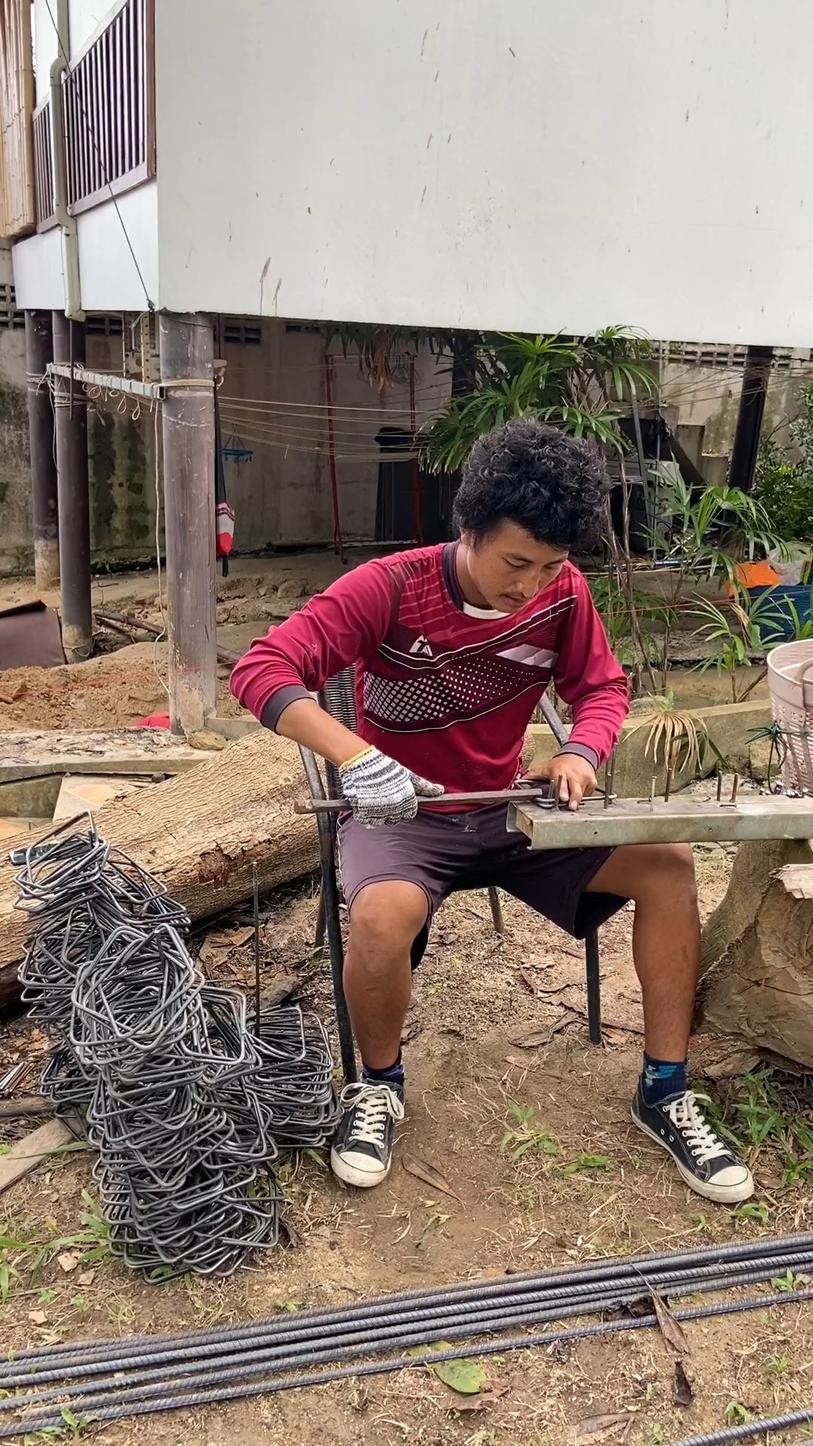No-gloves: (550, 753, 620, 808)
gloves: (321, 733, 451, 828)
